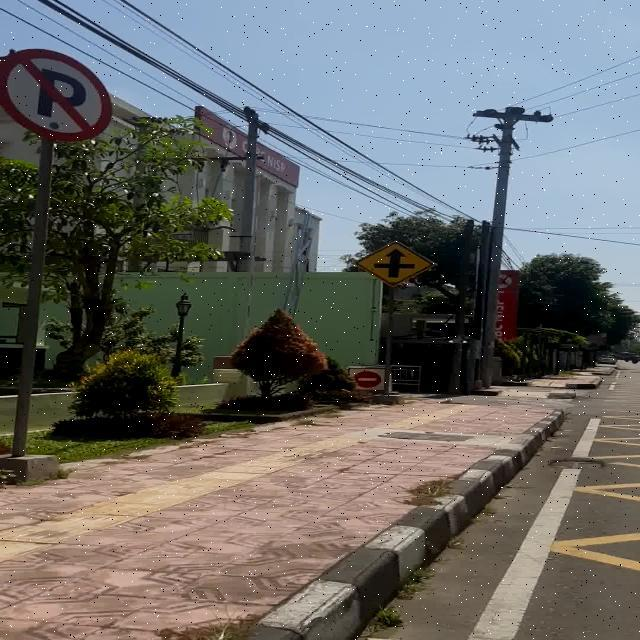Persimpangan 3 Prioritas: (354, 240, 436, 288)
